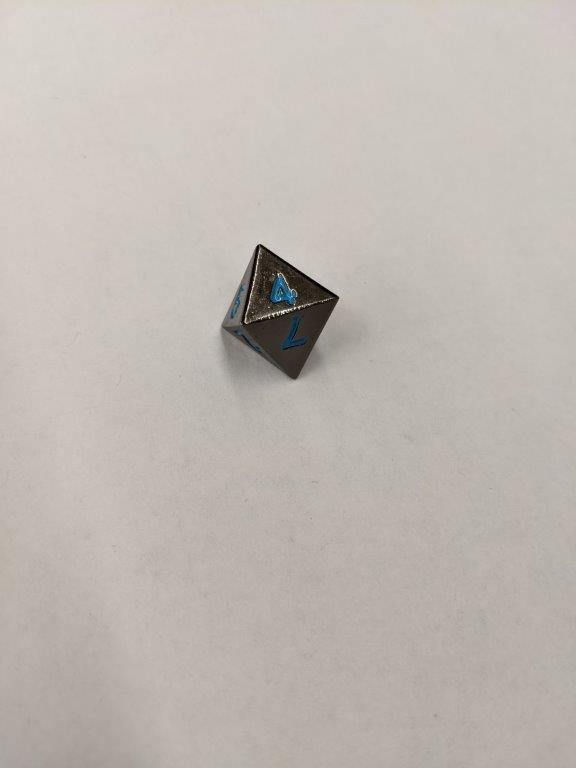d8-4: (221, 243, 341, 383)
